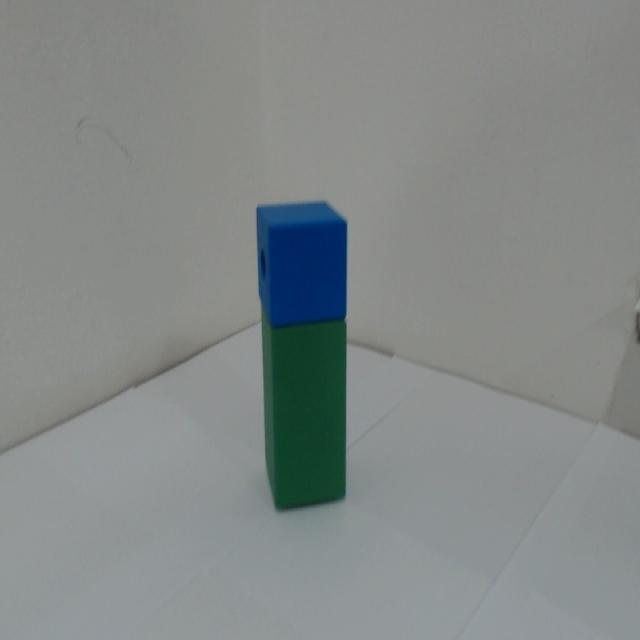cube: (240, 170, 372, 317)
